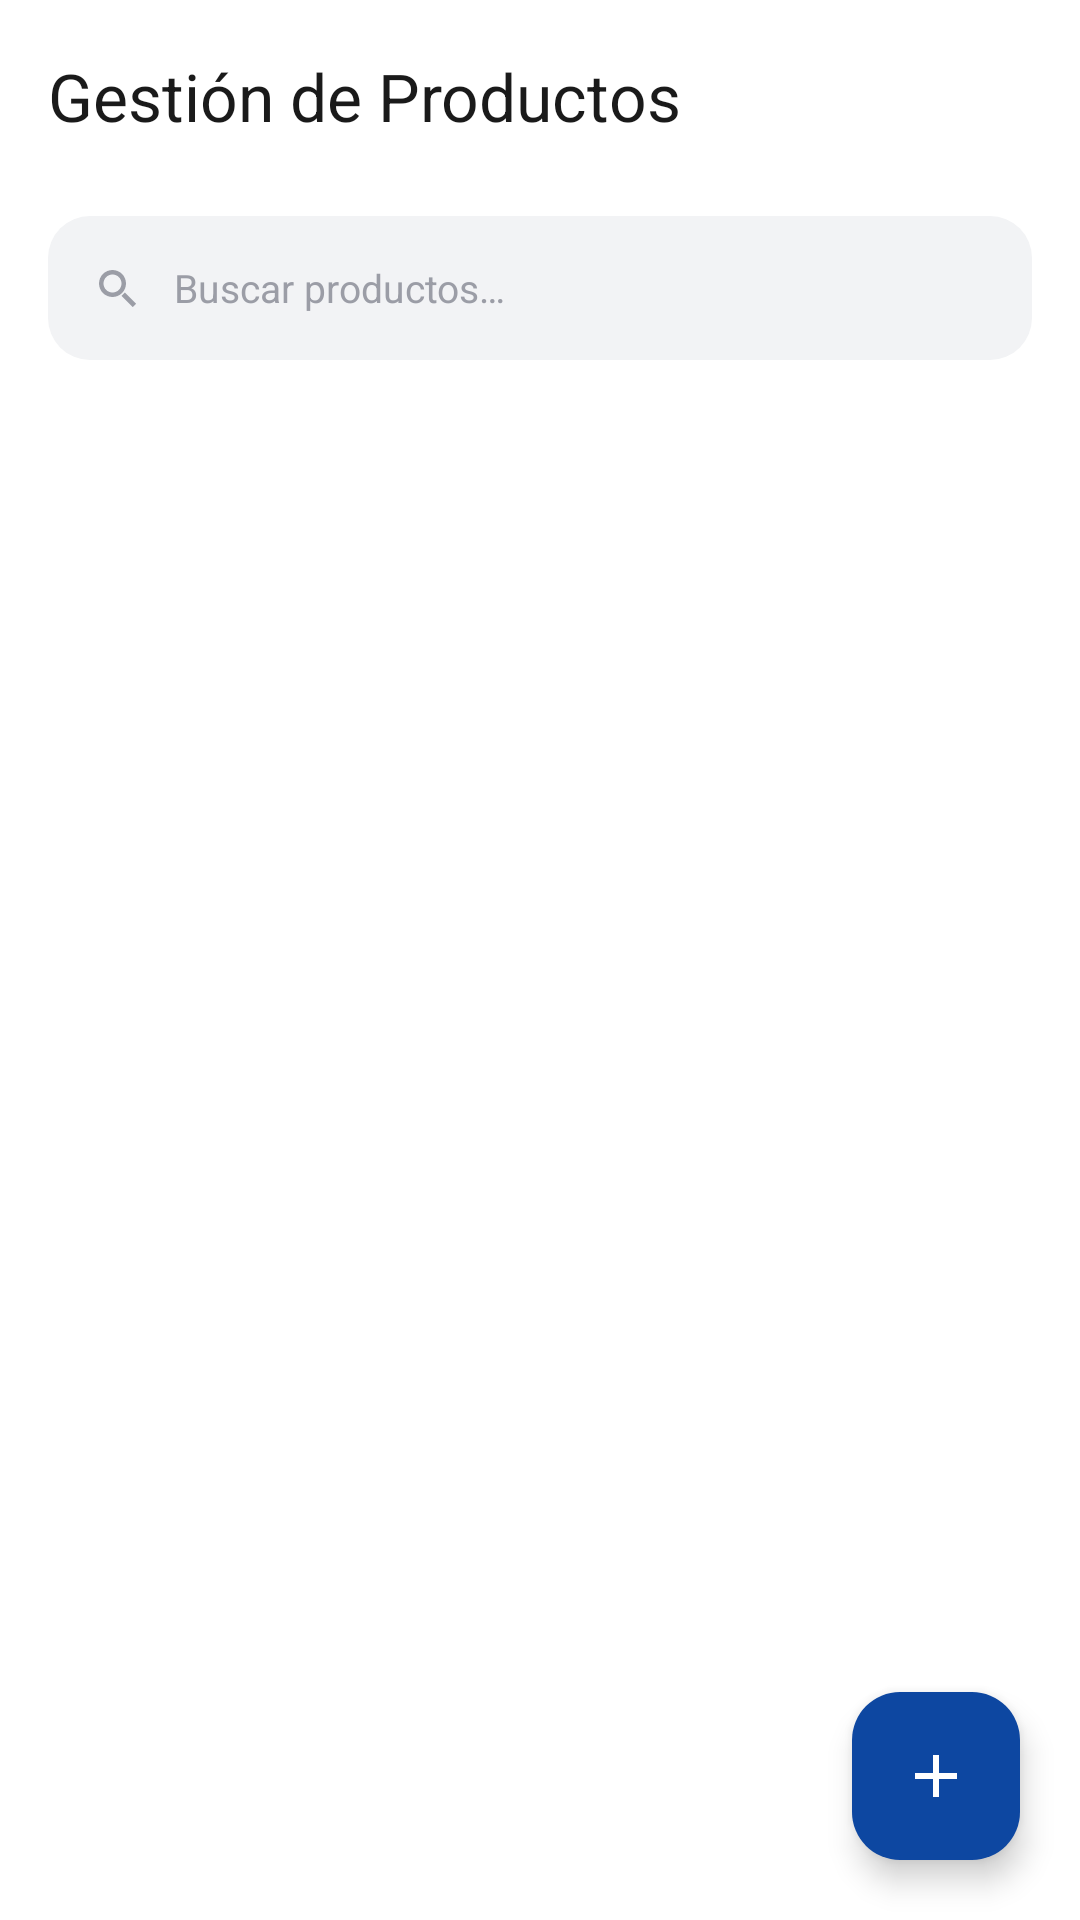

Screen size 1080x1920. Icon name, then its box in pixels as (x1, y1, x2, y2):
add plus: (852, 1692, 1020, 1860)
search: (99, 270, 136, 307)
